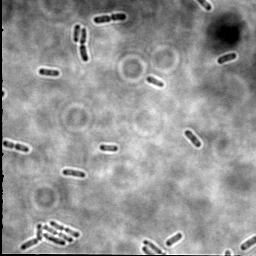Dividing: (1, 137, 32, 155), (92, 11, 128, 26), (77, 26, 90, 64)
Microcolony: (20, 218, 81, 251)
Rod: (183, 128, 203, 150), (60, 167, 88, 180), (145, 74, 167, 90), (37, 66, 62, 79), (216, 52, 239, 66), (165, 231, 185, 247), (98, 143, 119, 154), (71, 22, 81, 44)
